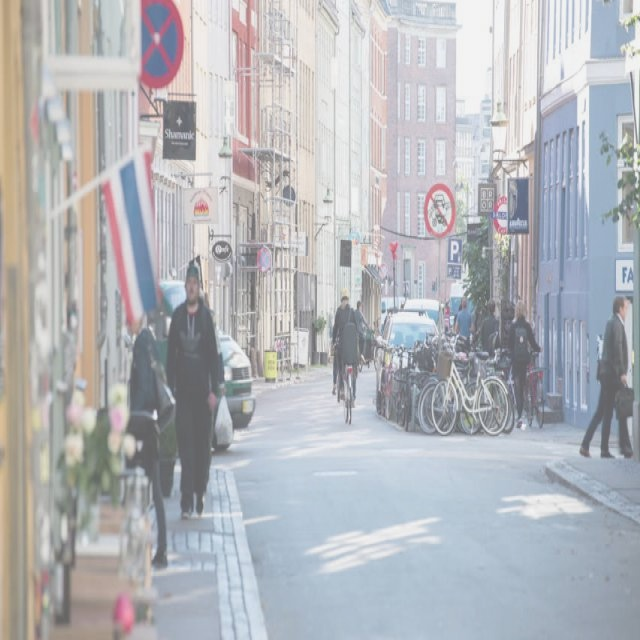pessoa: (163, 259, 219, 520), (123, 317, 171, 571), (598, 294, 635, 462), (578, 356, 634, 460), (507, 298, 544, 429), (202, 290, 226, 400), (331, 289, 351, 396), (330, 302, 351, 394), (454, 298, 474, 386), (352, 298, 372, 371), (480, 297, 500, 352), (383, 302, 428, 322), (443, 300, 451, 336), (453, 302, 463, 326)
